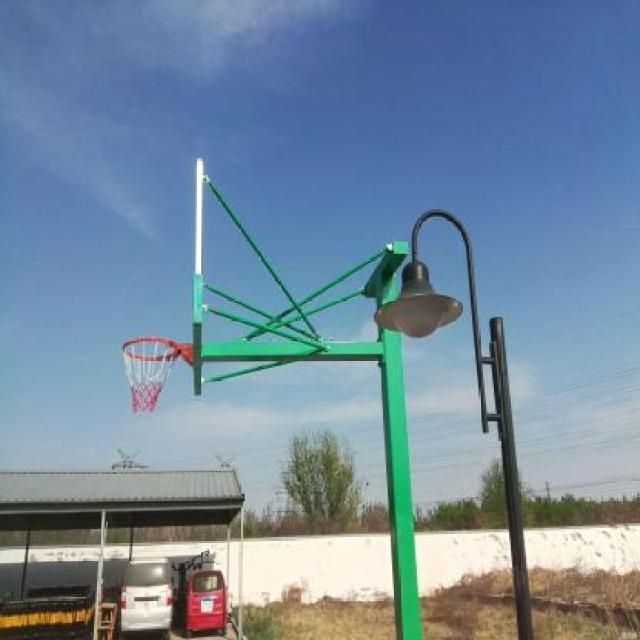rim: (122, 336, 178, 412)
